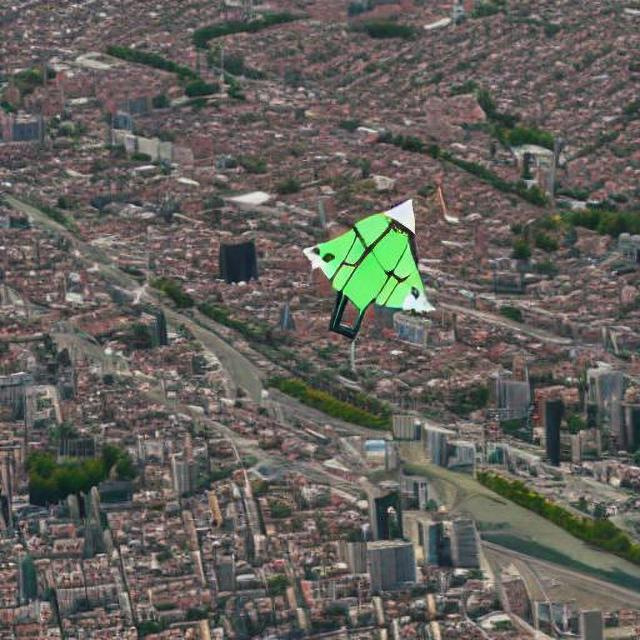balloon: (212, 232, 266, 301)
floating object: (307, 202, 433, 337)
